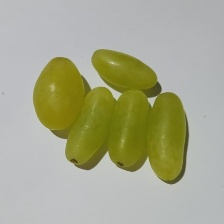grapes: (11, 37, 204, 176)
